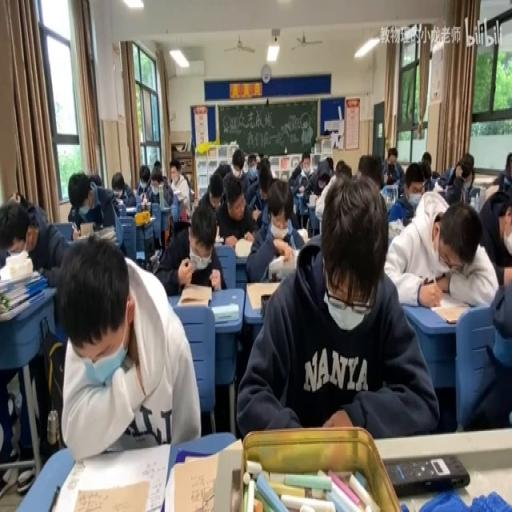calculator: (50, 442, 168, 511), (170, 452, 220, 512), (177, 283, 213, 307), (430, 304, 469, 324), (210, 302, 238, 322), (233, 236, 254, 256), (94, 224, 116, 242), (386, 219, 402, 238), (148, 248, 160, 270), (132, 215, 155, 226), (79, 220, 93, 238), (294, 224, 308, 242), (432, 182, 444, 193), (308, 193, 318, 205), (213, 234, 222, 244), (125, 205, 136, 213), (298, 183, 304, 192)
paper: (235, 171, 432, 438), (56, 234, 198, 460), (0, 189, 76, 479), (384, 188, 497, 307), (456, 263, 511, 430), (156, 203, 226, 296), (254, 160, 298, 234), (67, 171, 117, 233), (246, 225, 302, 280), (0, 199, 32, 265), (435, 154, 474, 202), (195, 168, 225, 222), (168, 155, 190, 219), (307, 155, 336, 202), (380, 144, 406, 194), (486, 154, 512, 198), (242, 151, 262, 205), (111, 168, 136, 209), (403, 162, 429, 201), (287, 162, 310, 201), (160, 202, 174, 245), (136, 164, 153, 199), (230, 151, 244, 176), (334, 159, 352, 178), (213, 160, 230, 180), (12, 192, 27, 209), (89, 170, 102, 188), (356, 154, 368, 172), (134, 194, 148, 208), (150, 174, 162, 189), (466, 168, 474, 190), (324, 155, 334, 171), (421, 149, 430, 165), (302, 154, 311, 170), (318, 176, 327, 190), (182, 171, 190, 186), (242, 160, 249, 174), (152, 159, 161, 168), (256, 151, 263, 162)
person: (384, 454, 470, 496), (230, 468, 242, 510), (259, 292, 272, 314), (270, 272, 279, 282), (146, 200, 152, 214)
